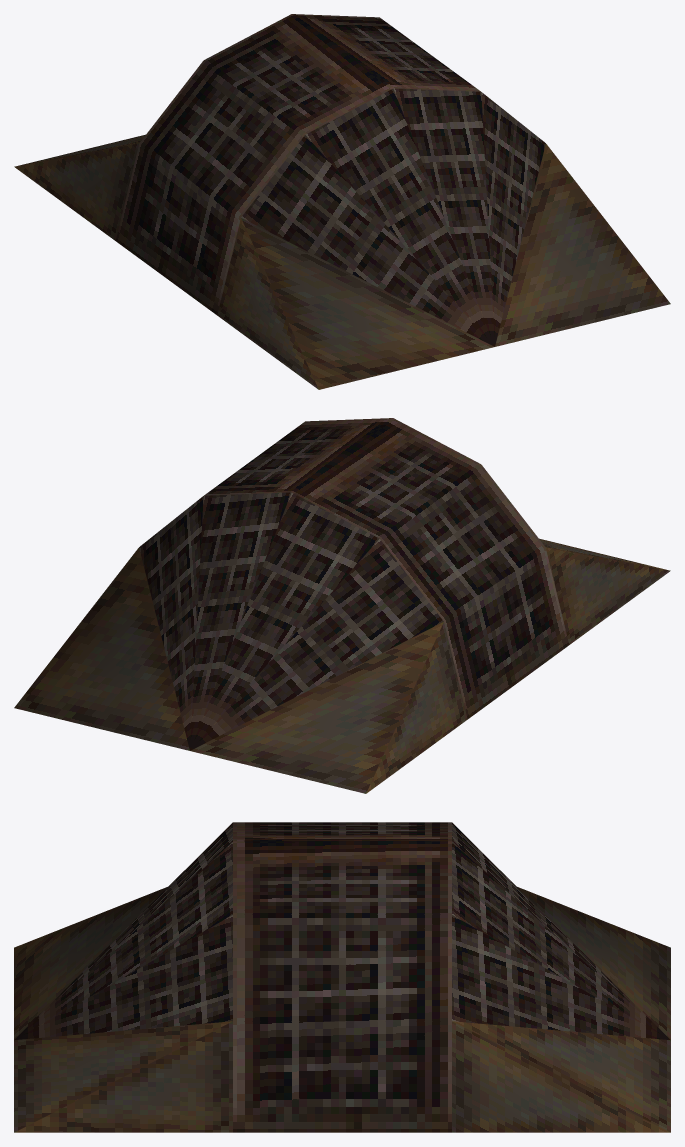
3 renders of one model, top to bottom at view 1: azimuth 30°, elevation 25°; view 2: azimuth 150°, elevation 25°; view 3: azimuth 270°, elevation 25°, orthographic. The views are drawn at different scales.
Parts seen in each view (by area): view 1: Slim_obj_082; view 2: Slim_obj_082; view 3: Slim_obj_082.
Part boxes in pixels (x1=…): Slim_obj_082: x1=14, y1=14, x2=670, y2=389; Slim_obj_082: x1=14, y1=418, x2=670, y2=793; Slim_obj_082: x1=14, y1=822, x2=670, y2=1132.
Size of the model in its own units: 2 by 1 by 3.
2 materials, 2 textured.
